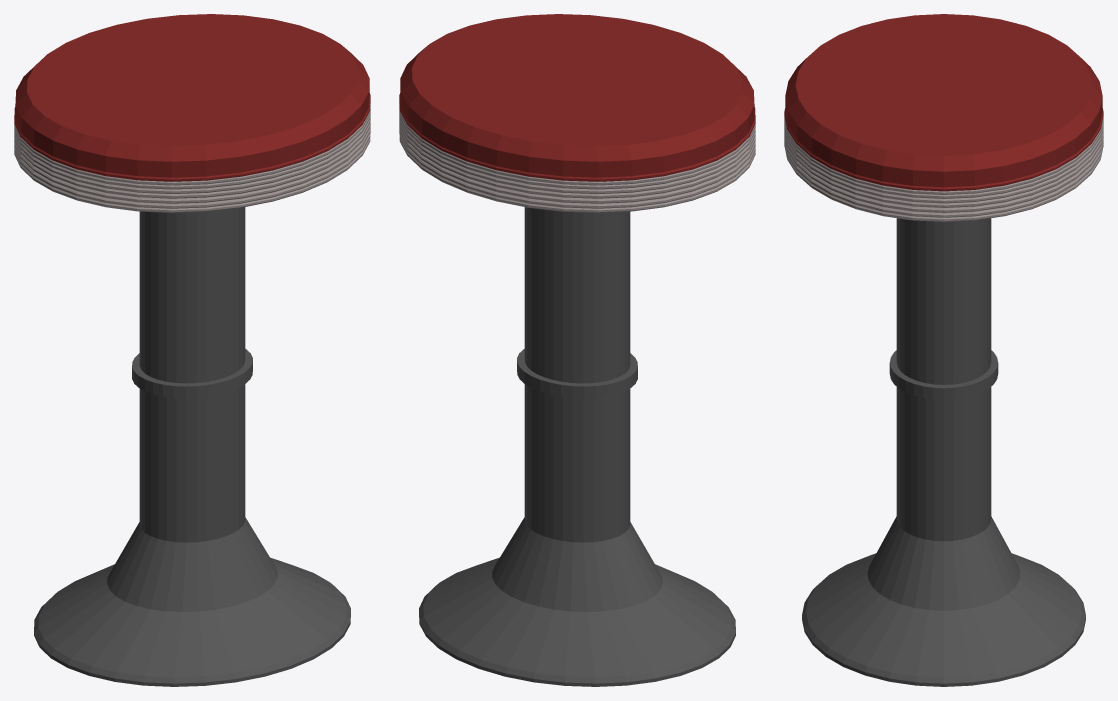
Rendered from Dinner_Stand.fbx.
The picture shows the model from 3 angles, left to right: view 1: azimuth 30°, elevation 25°; view 2: azimuth 150°, elevation 25°; view 3: azimuth 270°, elevation 25°; orthographic projection.
Visible parts, largest first — view 1: Dinner_Stand; view 2: Dinner_Stand; view 3: Dinner_Stand.
Part boxes in pixels (<box>): Dinner_Stand: <box>14,14,370,686</box>; Dinner_Stand: <box>399,14,755,686</box>; Dinner_Stand: <box>784,14,1103,686</box>.
Size of the model in its own units: 0.6911 by 1.13 by 0.6112.
